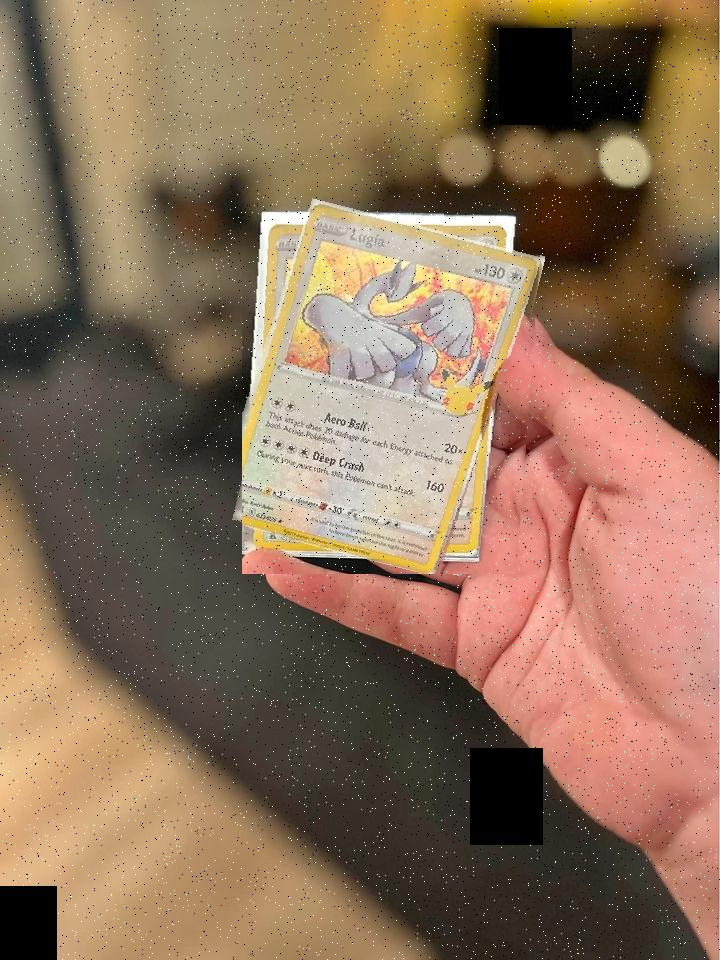card: (242, 202, 539, 574)
